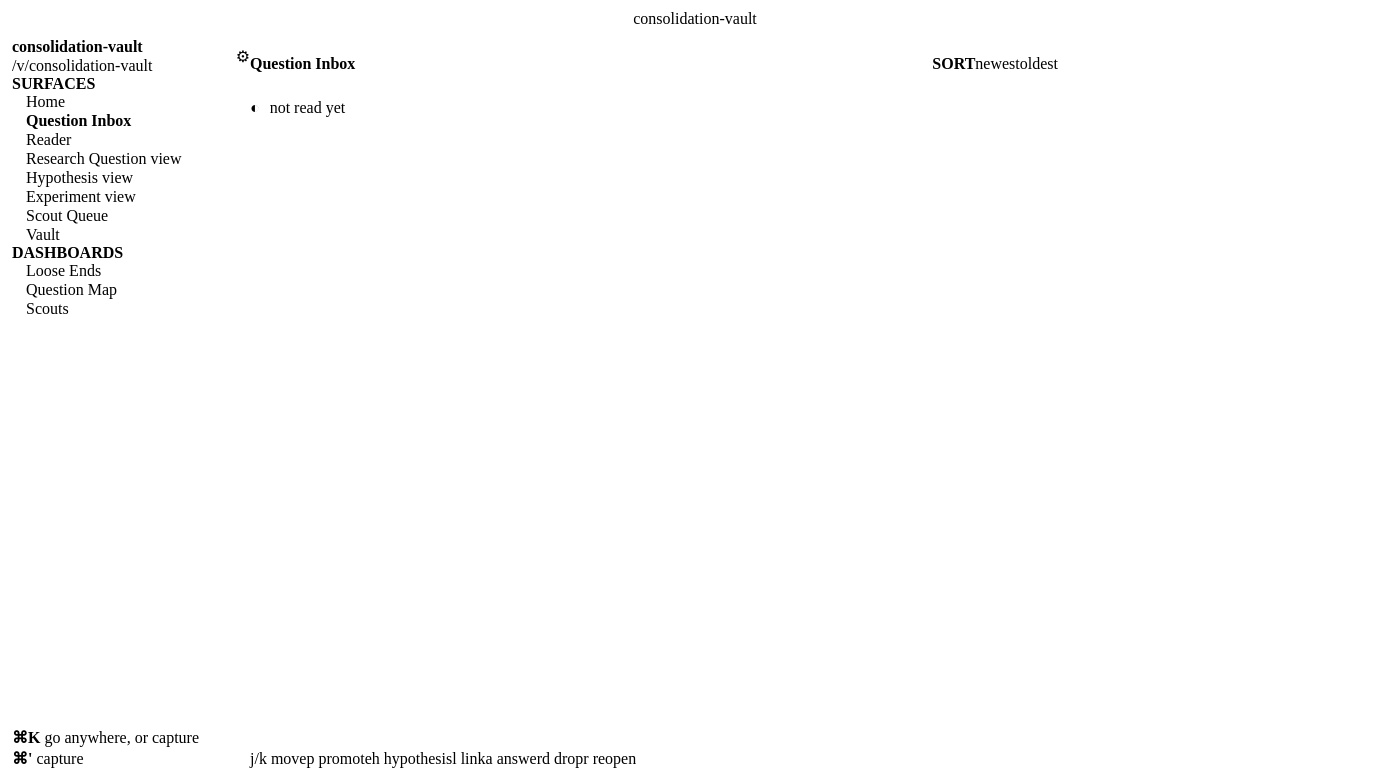
a write that fails › keeps the line open with the text and says why, under the input
The image size is (1390, 768).
Expected: the header is shown, [633,10,757,27]
Press '
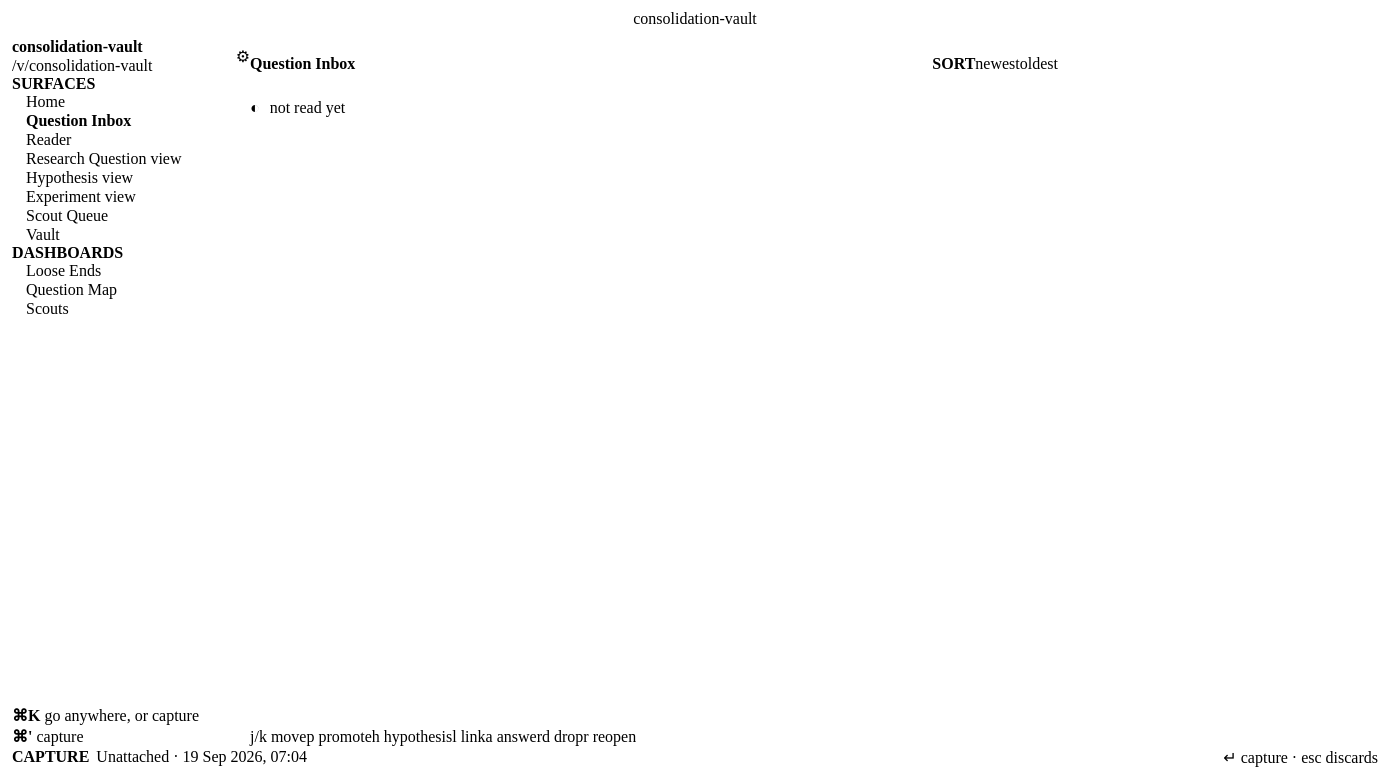
In the field named "Question": (769,757) [314,746,1223,767], type "Will this land?"
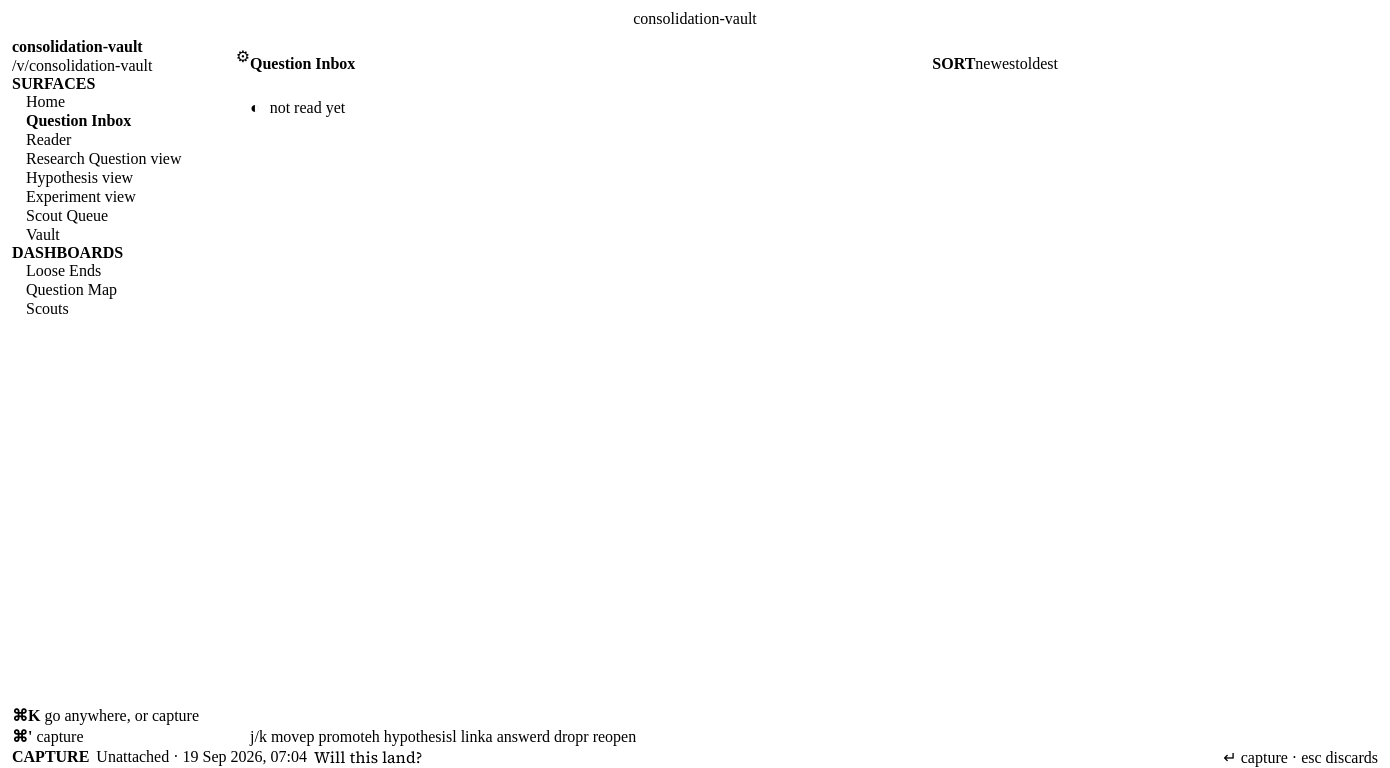
Press Enter in the field named "Question", box [314,746,1223,767]
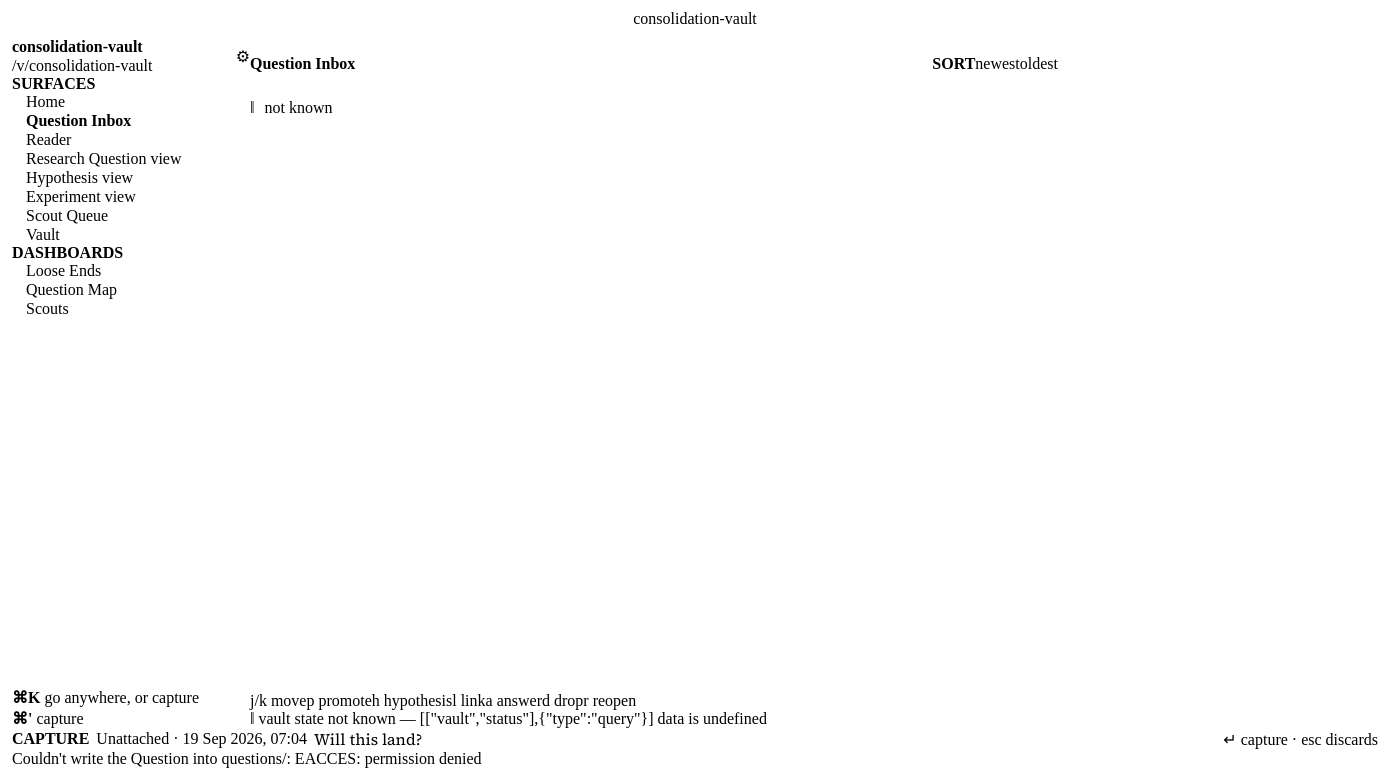
Result: the message "Couldn't write the Question into questions/: EACCES: permission denied" is shown at [12,750,482,767]
